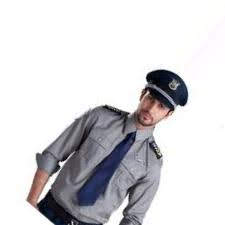uniform: (18, 98, 169, 225)
